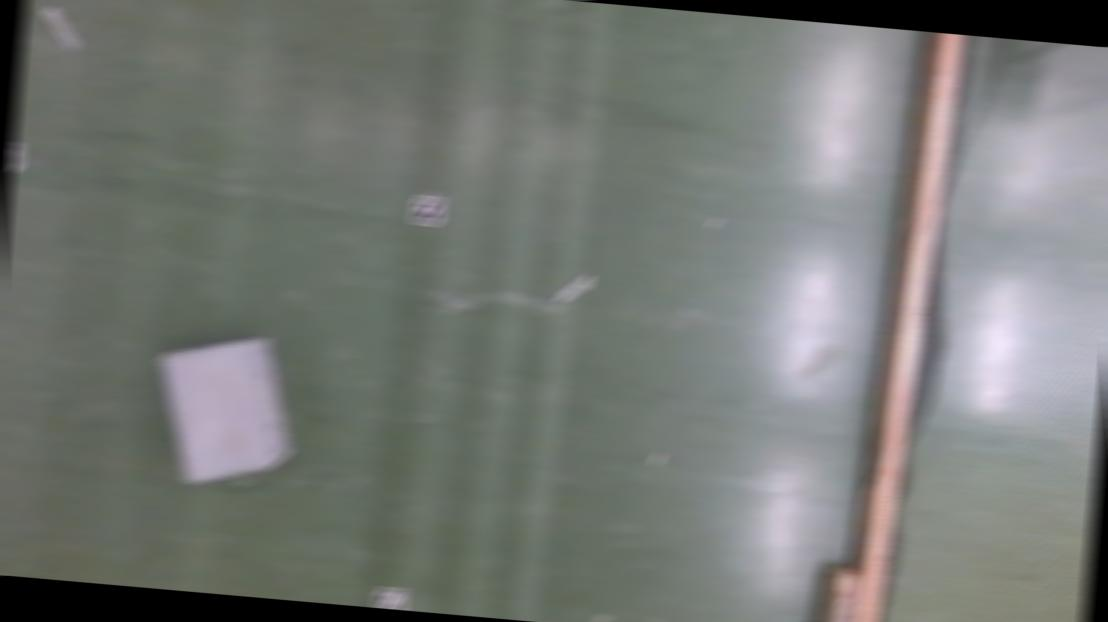probes: (40, 2, 83, 50), (556, 271, 592, 306)
rako: (147, 325, 303, 492)
